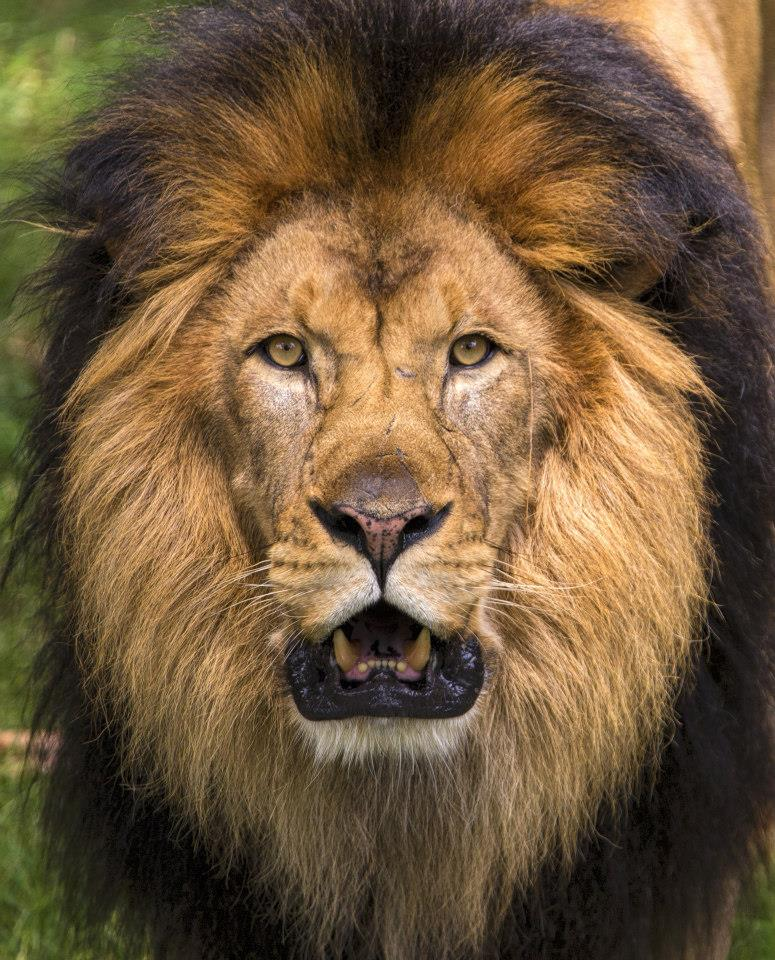lion: (22, 13, 761, 960)
